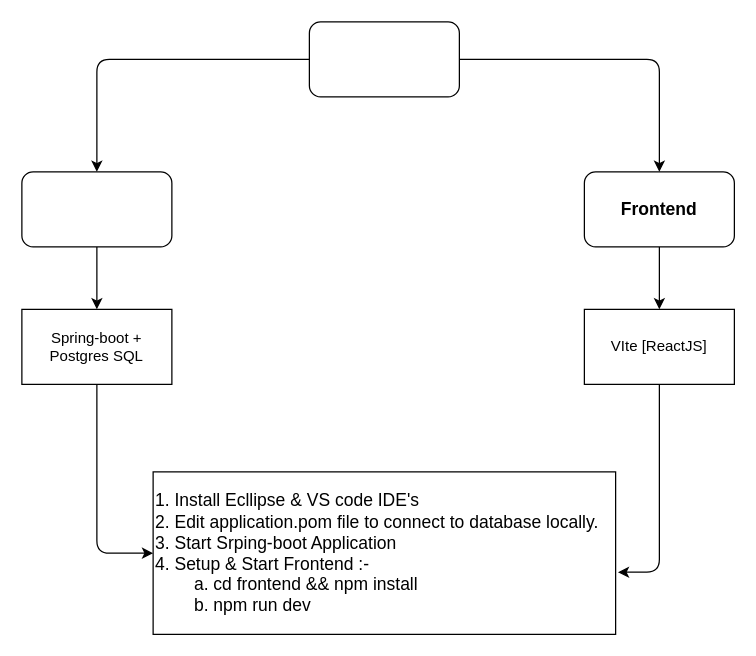
Image size: 756x656. Some labels were removed from this diagram. The centre of each missing label's shape, as x and y in pixels:
Alertnet: the point at 383,59
Backend: the point at 96,209
